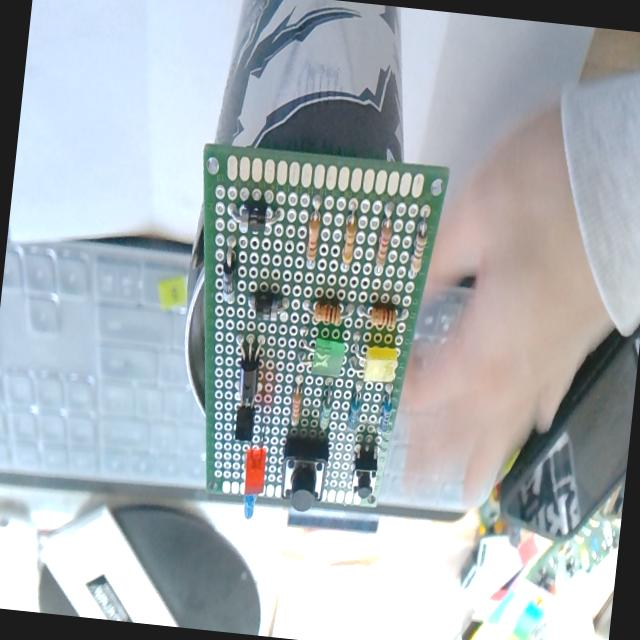diode: (228, 200, 282, 234), (218, 235, 242, 303), (247, 291, 288, 323)
led: (348, 336, 400, 384), (310, 324, 348, 379), (234, 484, 264, 532), (241, 444, 268, 496)
resistor: (374, 204, 395, 272), (407, 220, 429, 282), (340, 210, 358, 267), (304, 211, 322, 266), (366, 303, 398, 331), (318, 383, 334, 431), (346, 388, 363, 432), (378, 388, 394, 434), (314, 300, 342, 326), (290, 387, 302, 426)
switch: (278, 436, 330, 512), (348, 444, 380, 501)
transistor: (234, 340, 262, 408)
